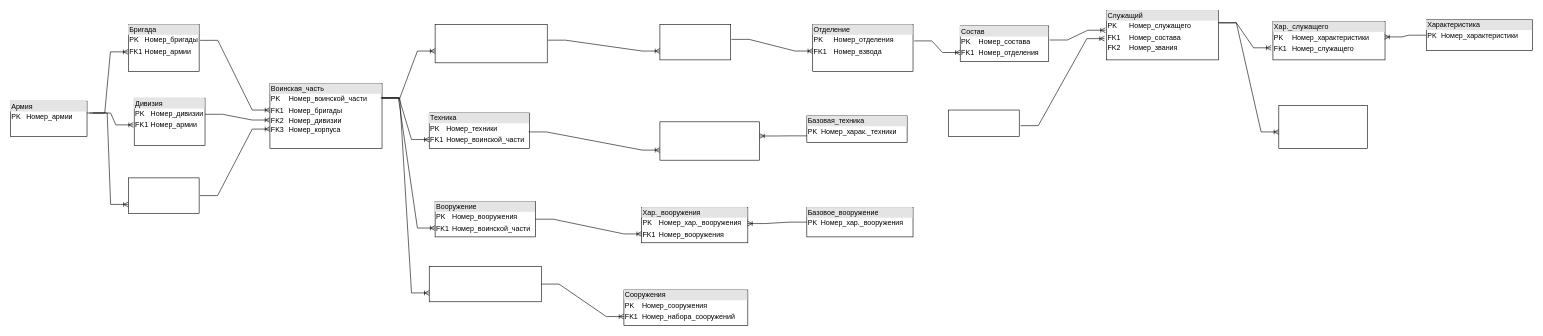
This 1543x336 diagram has some shape labels left out. Each missing label, with the centre of its shape:
"Взвод PK Номер_взвода FK1 Номер_роты" goes at point (695, 42).
"Звание PK Номер_звания" goes at point (983, 123).
"Корпус PK Номер_корпуса FK1 Номер_армии" goes at point (163, 195).
"Набор_сооружений PK Номер_набора_сооружения FK1 Номер_воинской_части" goes at point (485, 284).
"Рота PK Номер_роты FK1 Номер_воинской_части" goes at point (491, 43).
"Специальность PK Номер_специальности FK Номер_служащего" goes at point (1322, 126).
"Хар._техники PK Номер_харак._техники FK1 Номер_техники" goes at point (709, 140).
